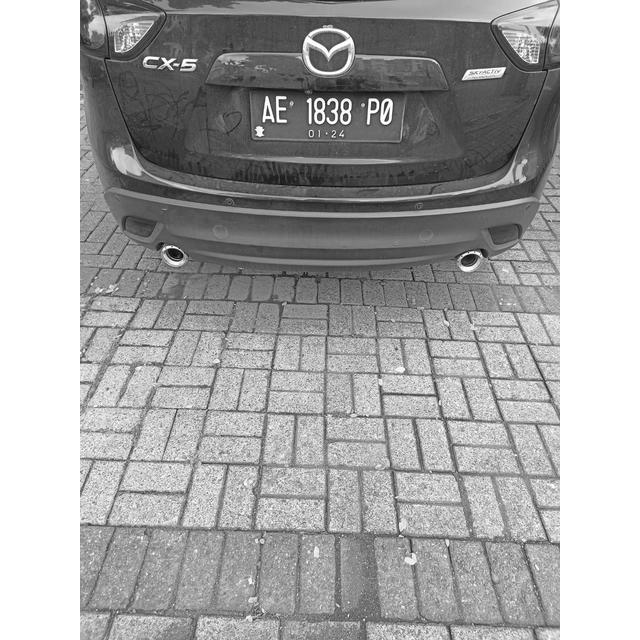license: (256, 90, 397, 138)
